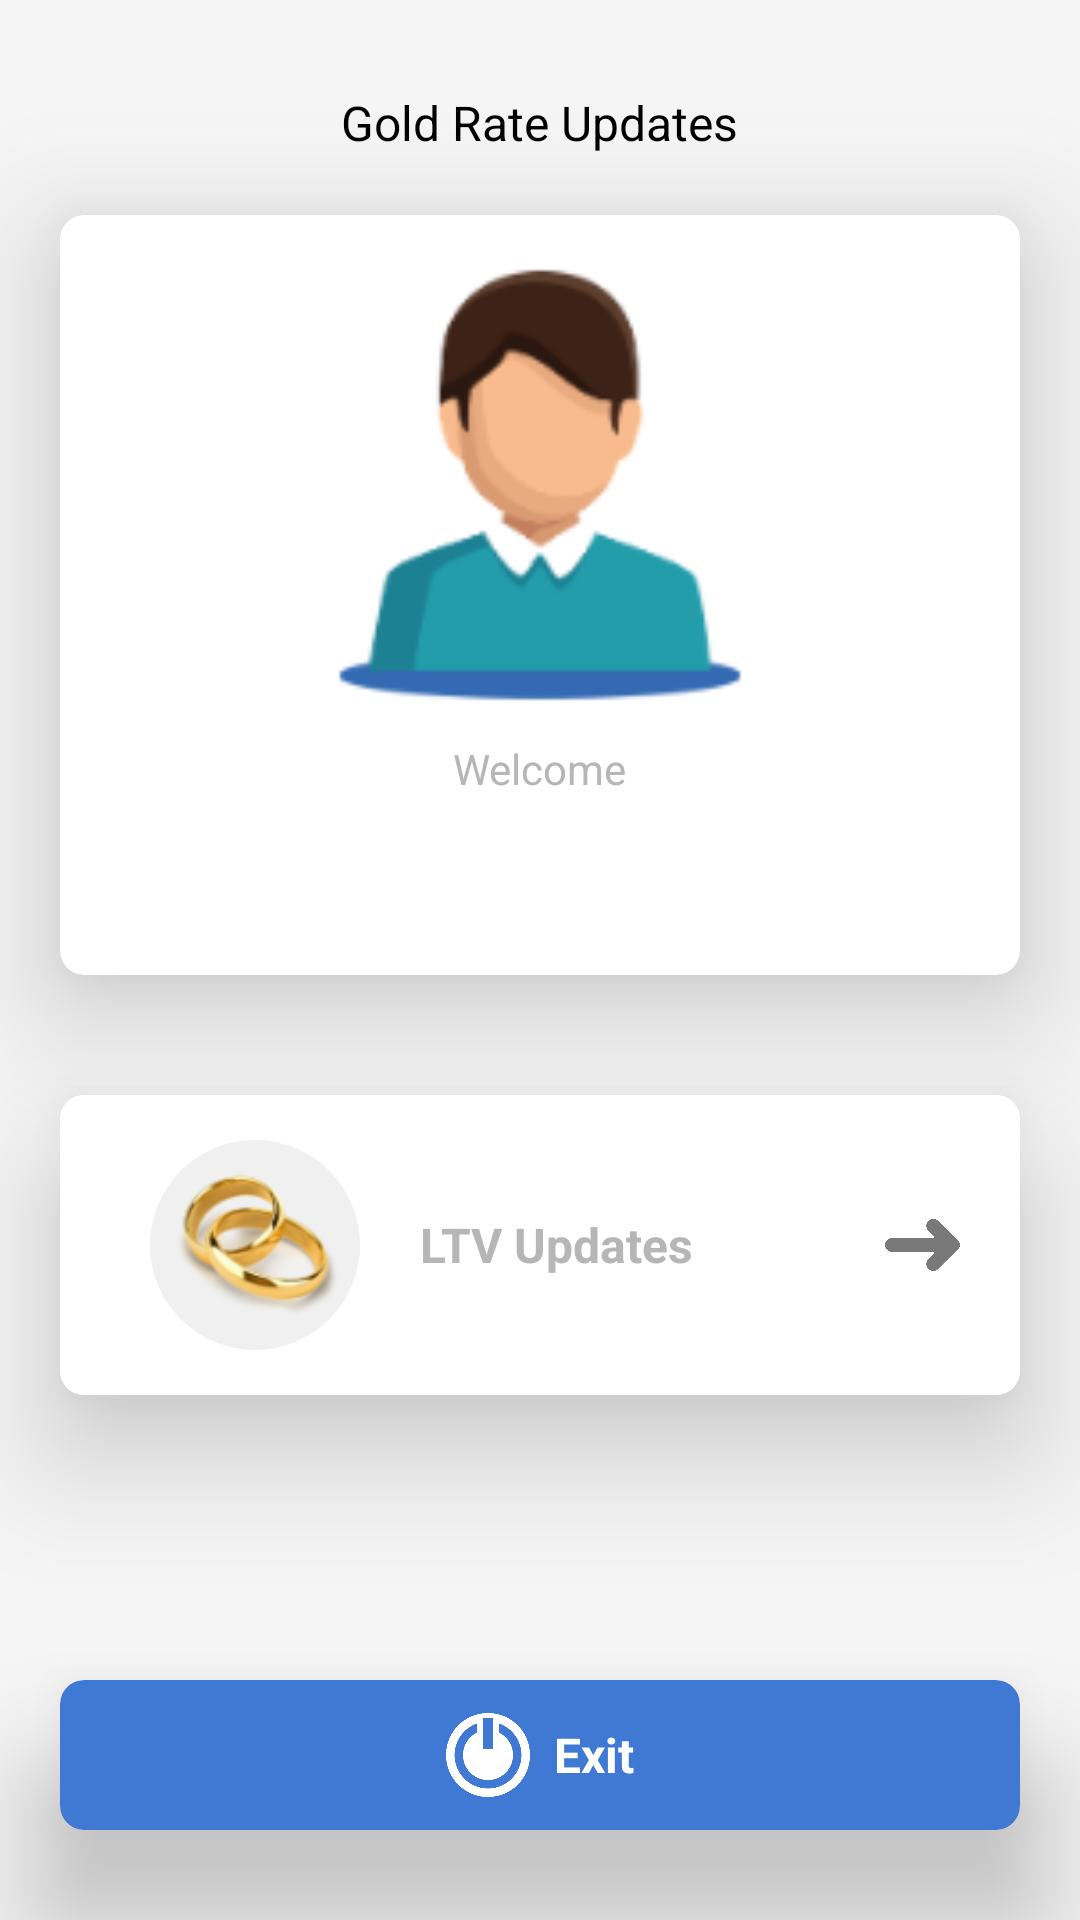

Where icons sit on this 1080x1920 app screen, as (x1, y1, x2, y2):
right arrow: (885, 1219, 960, 1271)
ring: (179, 1174, 336, 1312)
